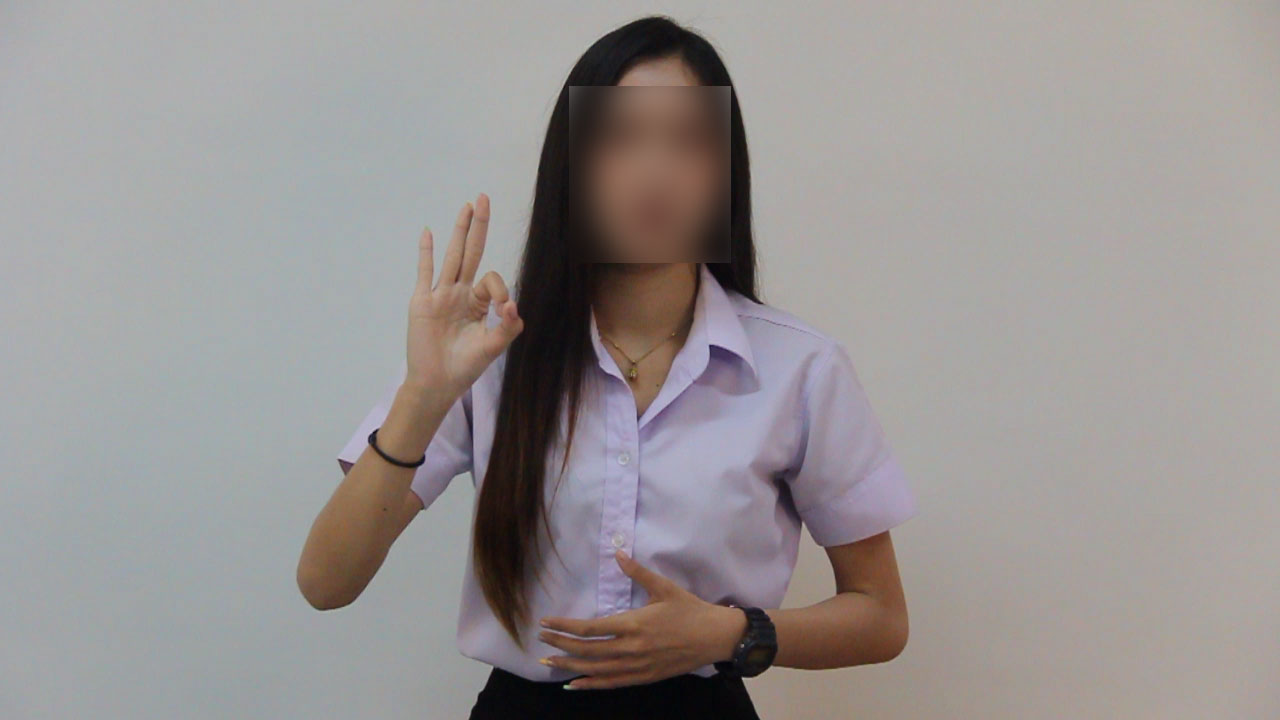for: (379, 180, 538, 404)
